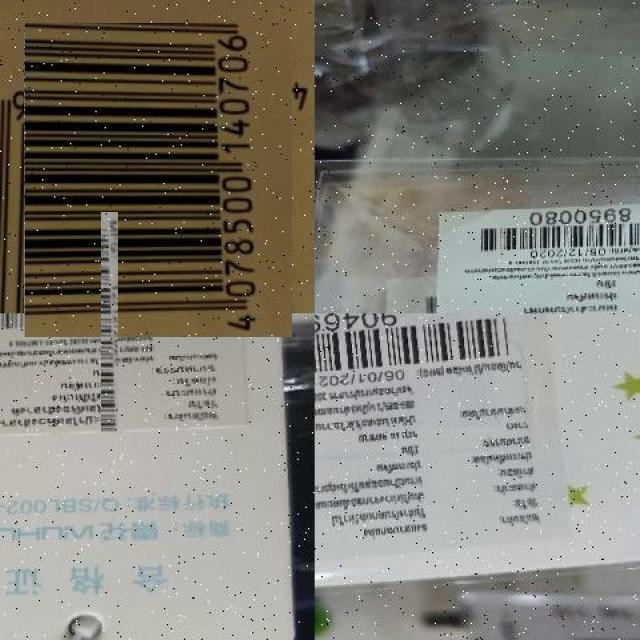Barcode: (12, 34, 303, 325), (315, 313, 540, 391), (50, 263, 170, 381), (472, 204, 640, 251)
